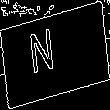N_S: (40, 26, 70, 84)
